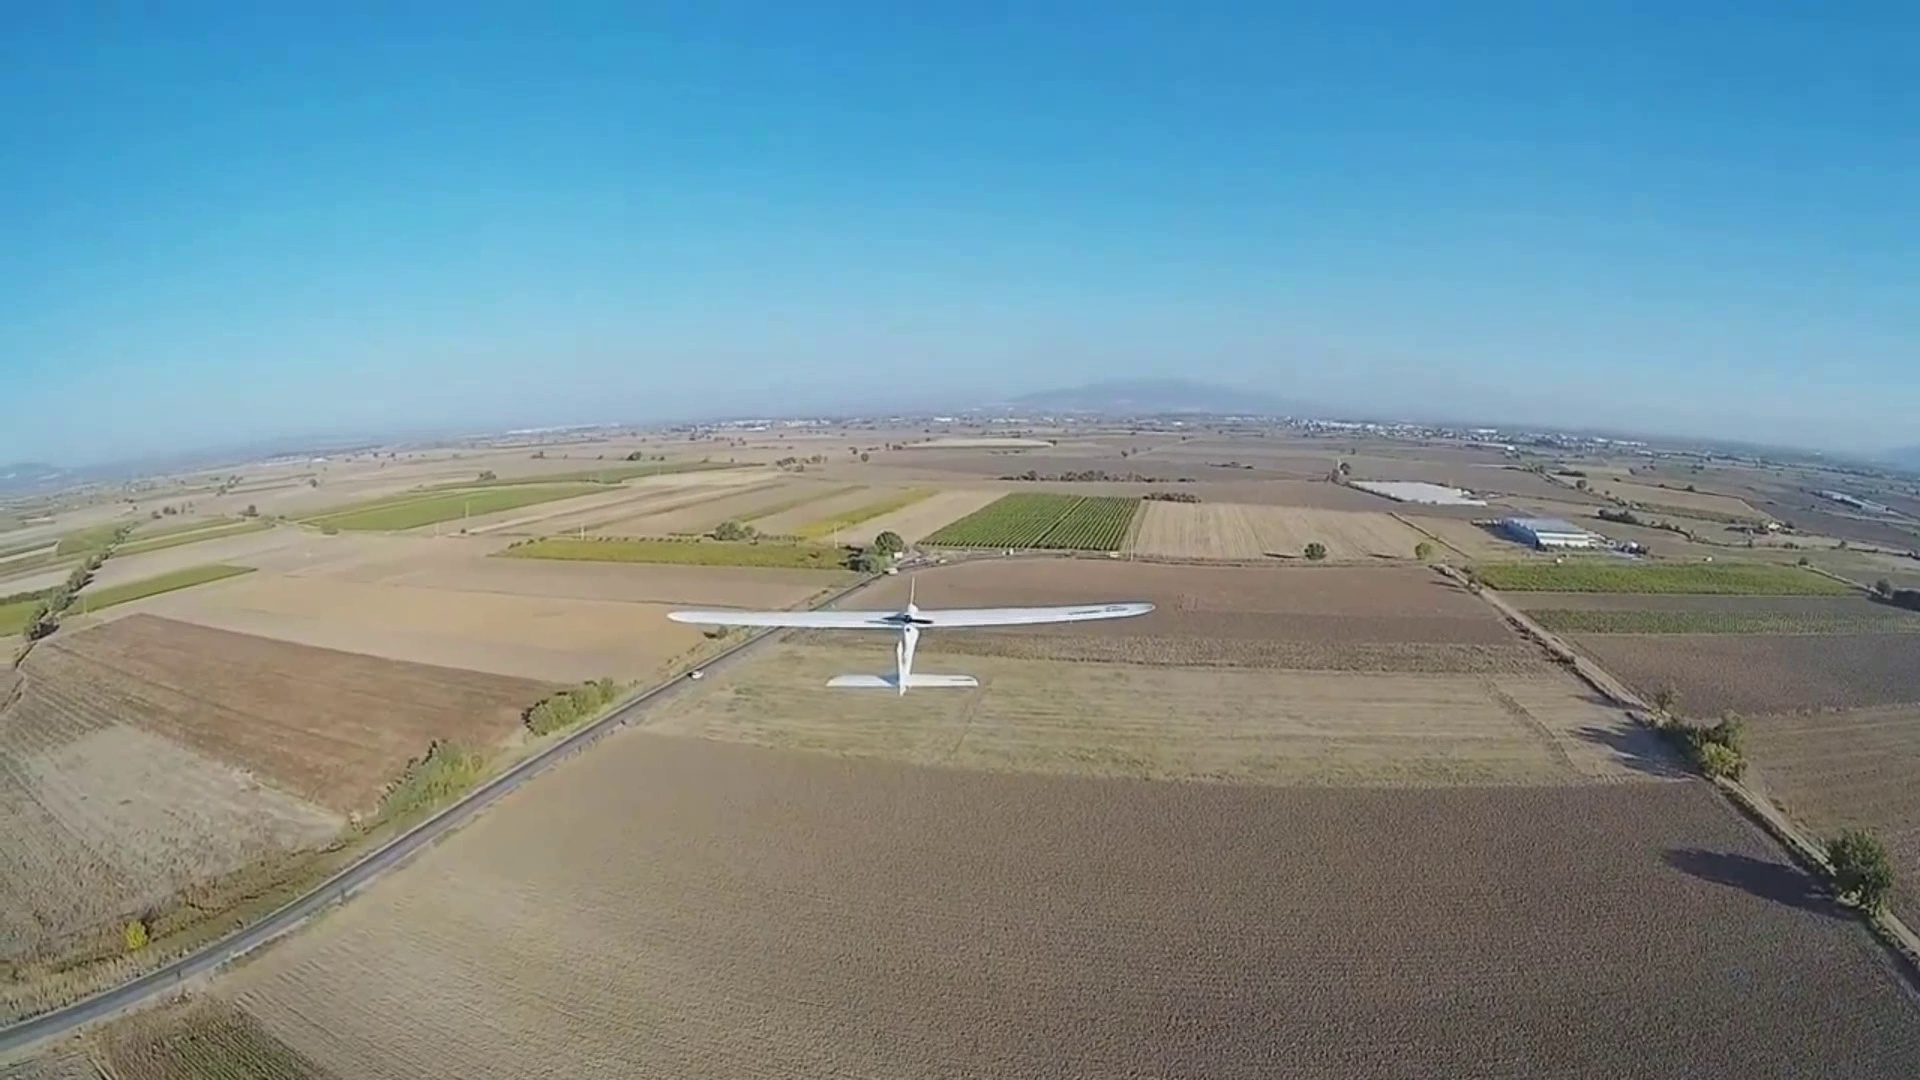airplane: (665, 547, 1154, 694)
